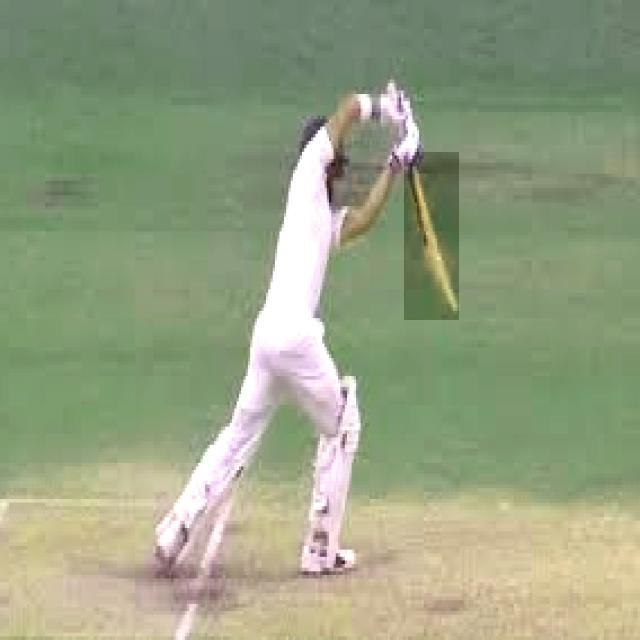bat: (405, 153, 466, 323)
toe: (445, 295, 462, 319)
